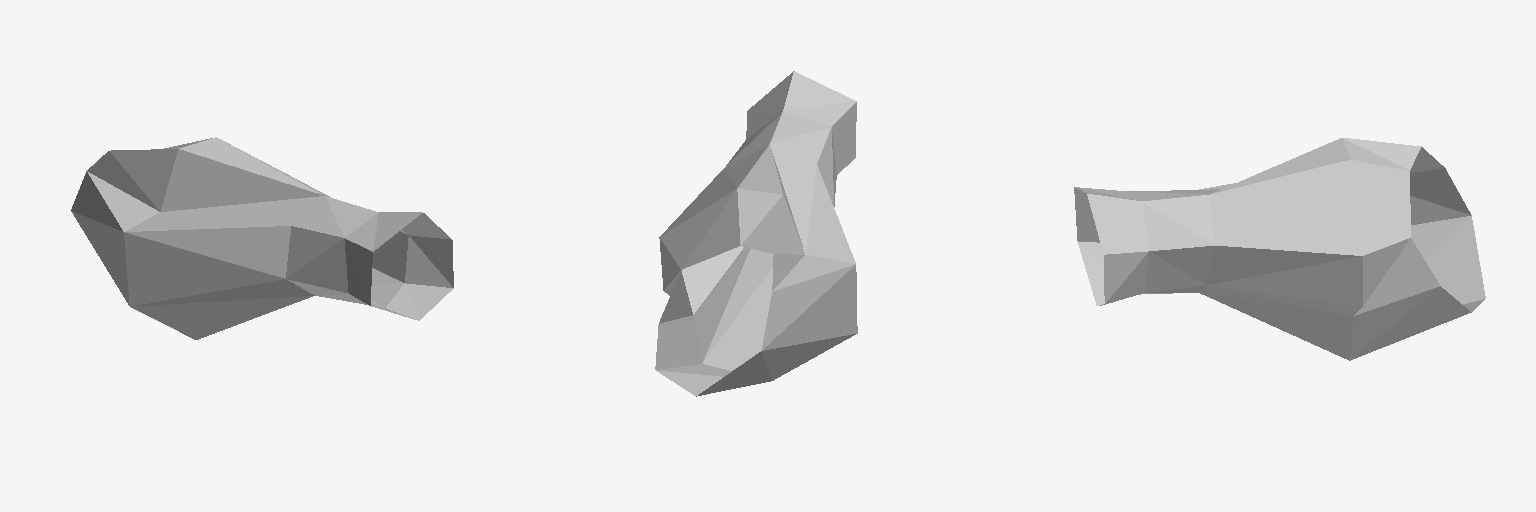
The model's file is AntebrazoDerecho.obj.
The picture shows the model from 3 angles: view 1: azimuth 30°, elevation 25°; view 2: azimuth 150°, elevation 25°; view 3: azimuth 270°, elevation 25°; orthographic projection.
Parts seen in each view (by area): view 1: aca.011; view 2: aca.011; view 3: aca.011.
Boxes of the visible parts, <box> form: aca.011: <box>71,137,453,339</box>; aca.011: <box>655,71,857,396</box>; aca.011: <box>1074,138,1485,360</box>.
Bounding box in the file's own units: 0.2711 × 0.2281 × 0.4386.